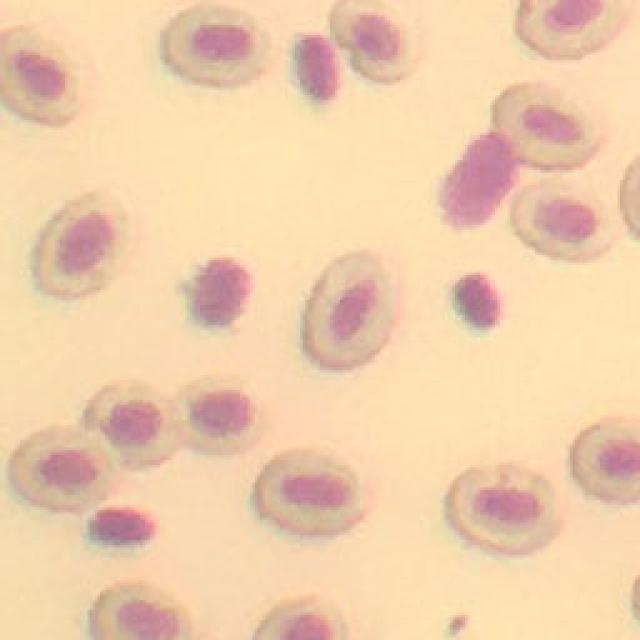RBC: (302, 252, 398, 370), (35, 192, 138, 300), (448, 466, 560, 555), (495, 82, 602, 170), (255, 452, 365, 536), (10, 430, 115, 512), (512, 180, 615, 262), (161, 8, 269, 85), (85, 385, 180, 468), (0, 28, 80, 125), (332, 0, 418, 82), (518, 0, 625, 60), (182, 380, 260, 455), (90, 585, 192, 640), (575, 420, 640, 505), (255, 602, 348, 639), (258, 475, 290, 525)
WBC: (442, 132, 518, 228), (192, 260, 252, 328), (298, 35, 340, 100), (458, 275, 502, 328), (90, 510, 155, 545)
